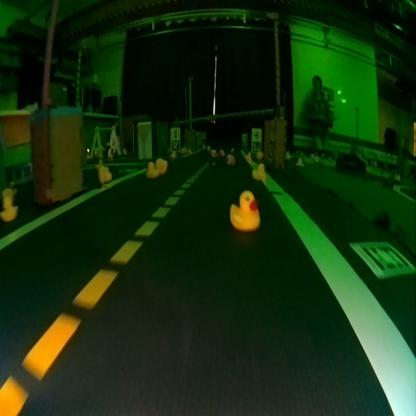Duckie: (230, 192, 258, 228), (3, 196, 17, 222), (98, 166, 112, 182), (252, 162, 264, 178), (146, 162, 156, 175), (156, 158, 166, 170), (227, 154, 233, 162)
QR code: (352, 241, 414, 277), (171, 138, 179, 150), (252, 140, 260, 152)
Signal sign: (171, 127, 179, 138)
